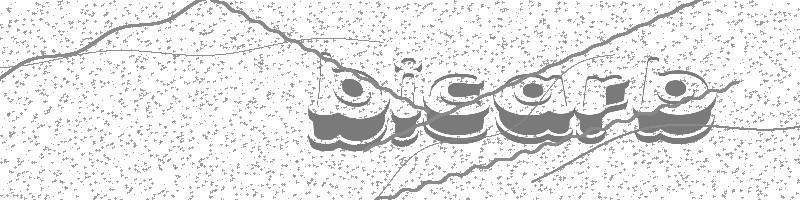a: (491, 73, 574, 145)
b: (306, 52, 389, 154), (631, 55, 716, 145)
c: (422, 72, 489, 146)
i: (390, 56, 421, 147)
r: (577, 74, 629, 147)
